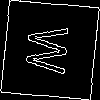W: (24, 24, 80, 76)
